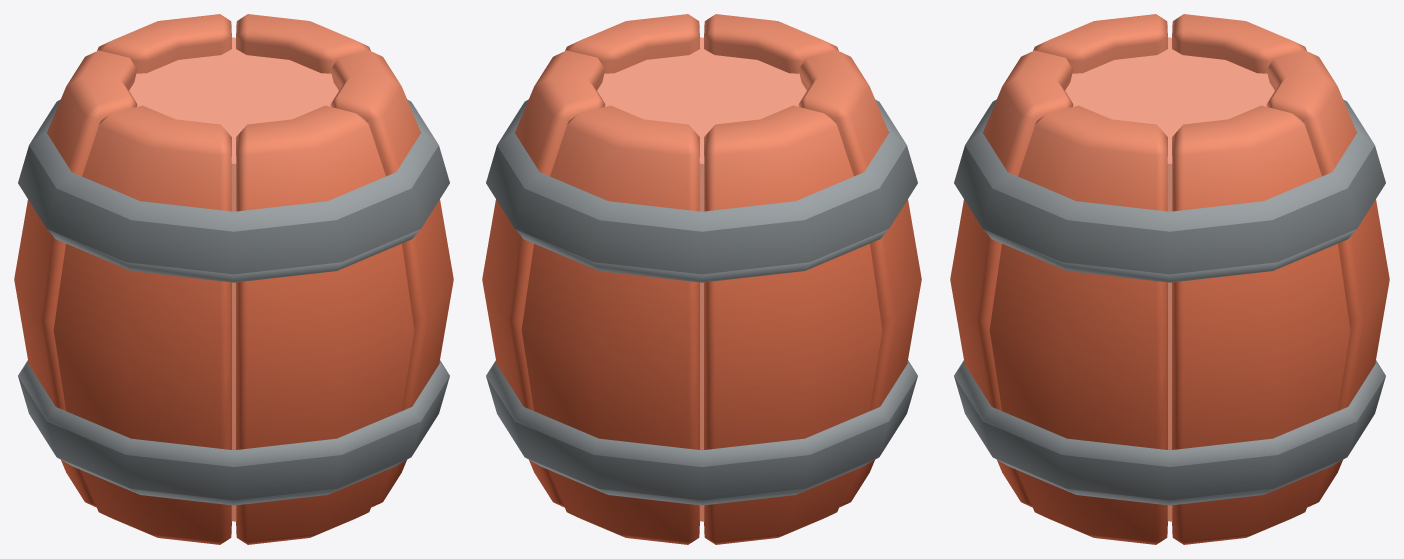
The model's file is barrel_002.glb.
3 views of the same model, side by side, from view 1: azimuth 30°, elevation 25°; view 2: azimuth 150°, elevation 25°; view 3: azimuth 270°, elevation 25° (orthographic).
Parts seen in each view (by area): view 1: barrel_002; view 2: barrel_002; view 3: barrel_002.
Part boxes in pixels (x1,y1,x2,y2): barrel_002: (14, 14, 453, 544); barrel_002: (482, 14, 921, 544); barrel_002: (950, 14, 1389, 544).
Size of the model in its own units: 1.1 by 1.14 by 1.12.
Materials: 1 (1 with a texture image).
